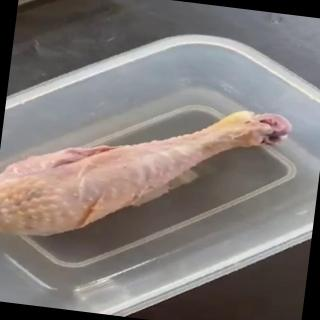Ayam: (1, 81, 295, 268)
